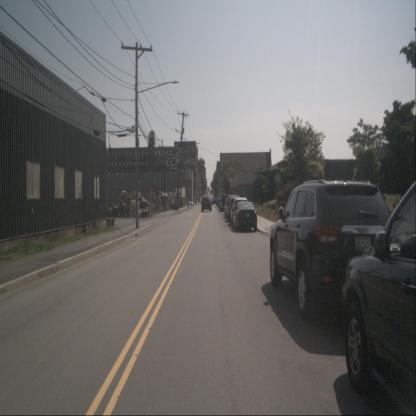vehicle-car: (270, 180, 396, 323), (342, 174, 416, 416), (233, 202, 257, 232), (230, 197, 248, 225), (227, 197, 242, 223), (226, 195, 239, 218), (220, 195, 231, 213), (201, 197, 212, 212), (225, 198, 233, 216), (219, 198, 226, 211), (184, 199, 194, 207), (209, 198, 213, 205)
vehicle-truck: (132, 197, 150, 210)
